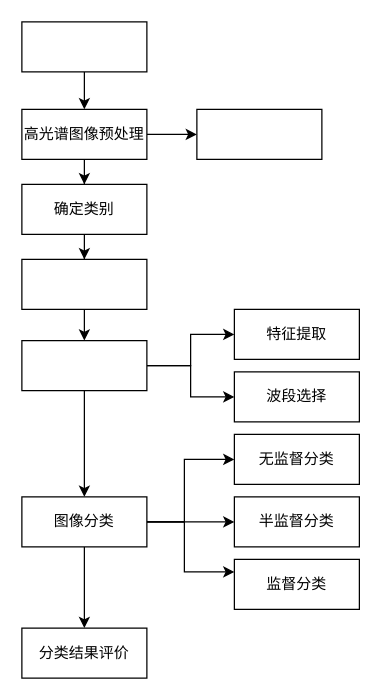
Image size: 381x700. Some labels were removed from this diagram. Here are the shapes that lost their labels. From the top down, the box of each, then its label:
(21, 21, 147, 72): 选择高光谱数据
(196, 108, 322, 159): envi软件
(21, 258, 147, 309): 选择训练样本
(21, 339, 147, 391): 图像降维
